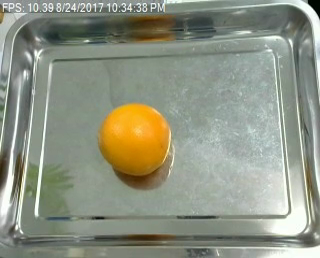Orange: (99, 103, 171, 176)
